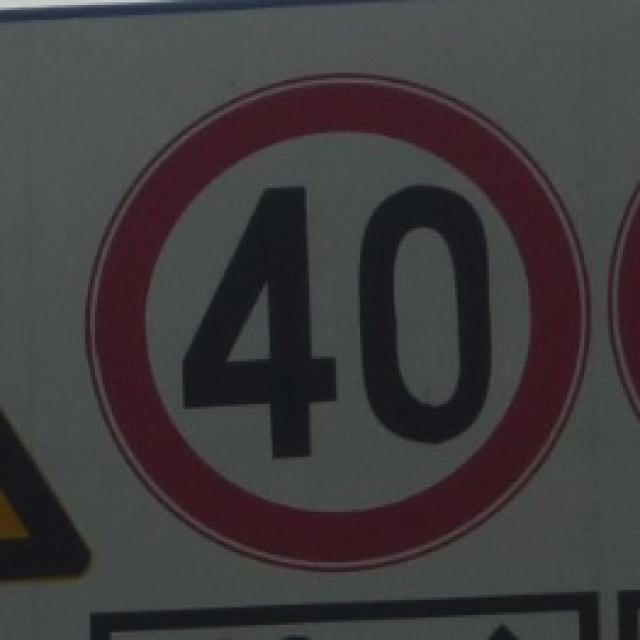Speed Limit -40-: (178, 181, 495, 462)
